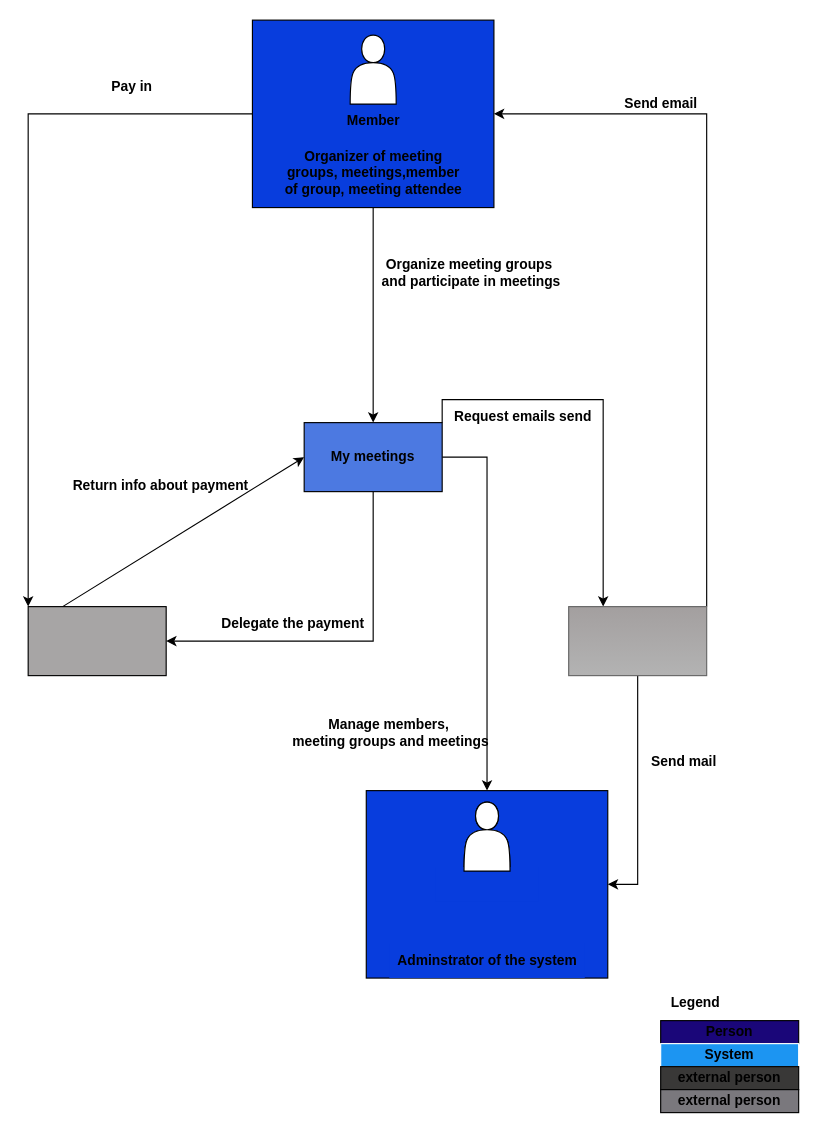
Image size: 819x1133. Some labels were removed from this diagram. The box of each missing label's shape, as (x1, y1, x2, y2) in pixels:
Adminstrator: (435, 867, 538, 901)
Email Service: (568, 605, 707, 676)
Payment Gateway: (27, 605, 166, 676)
